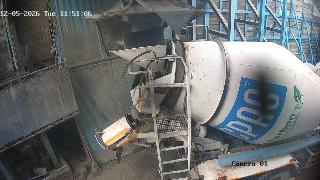cement_mixer_truck: (109, 41, 320, 179)
